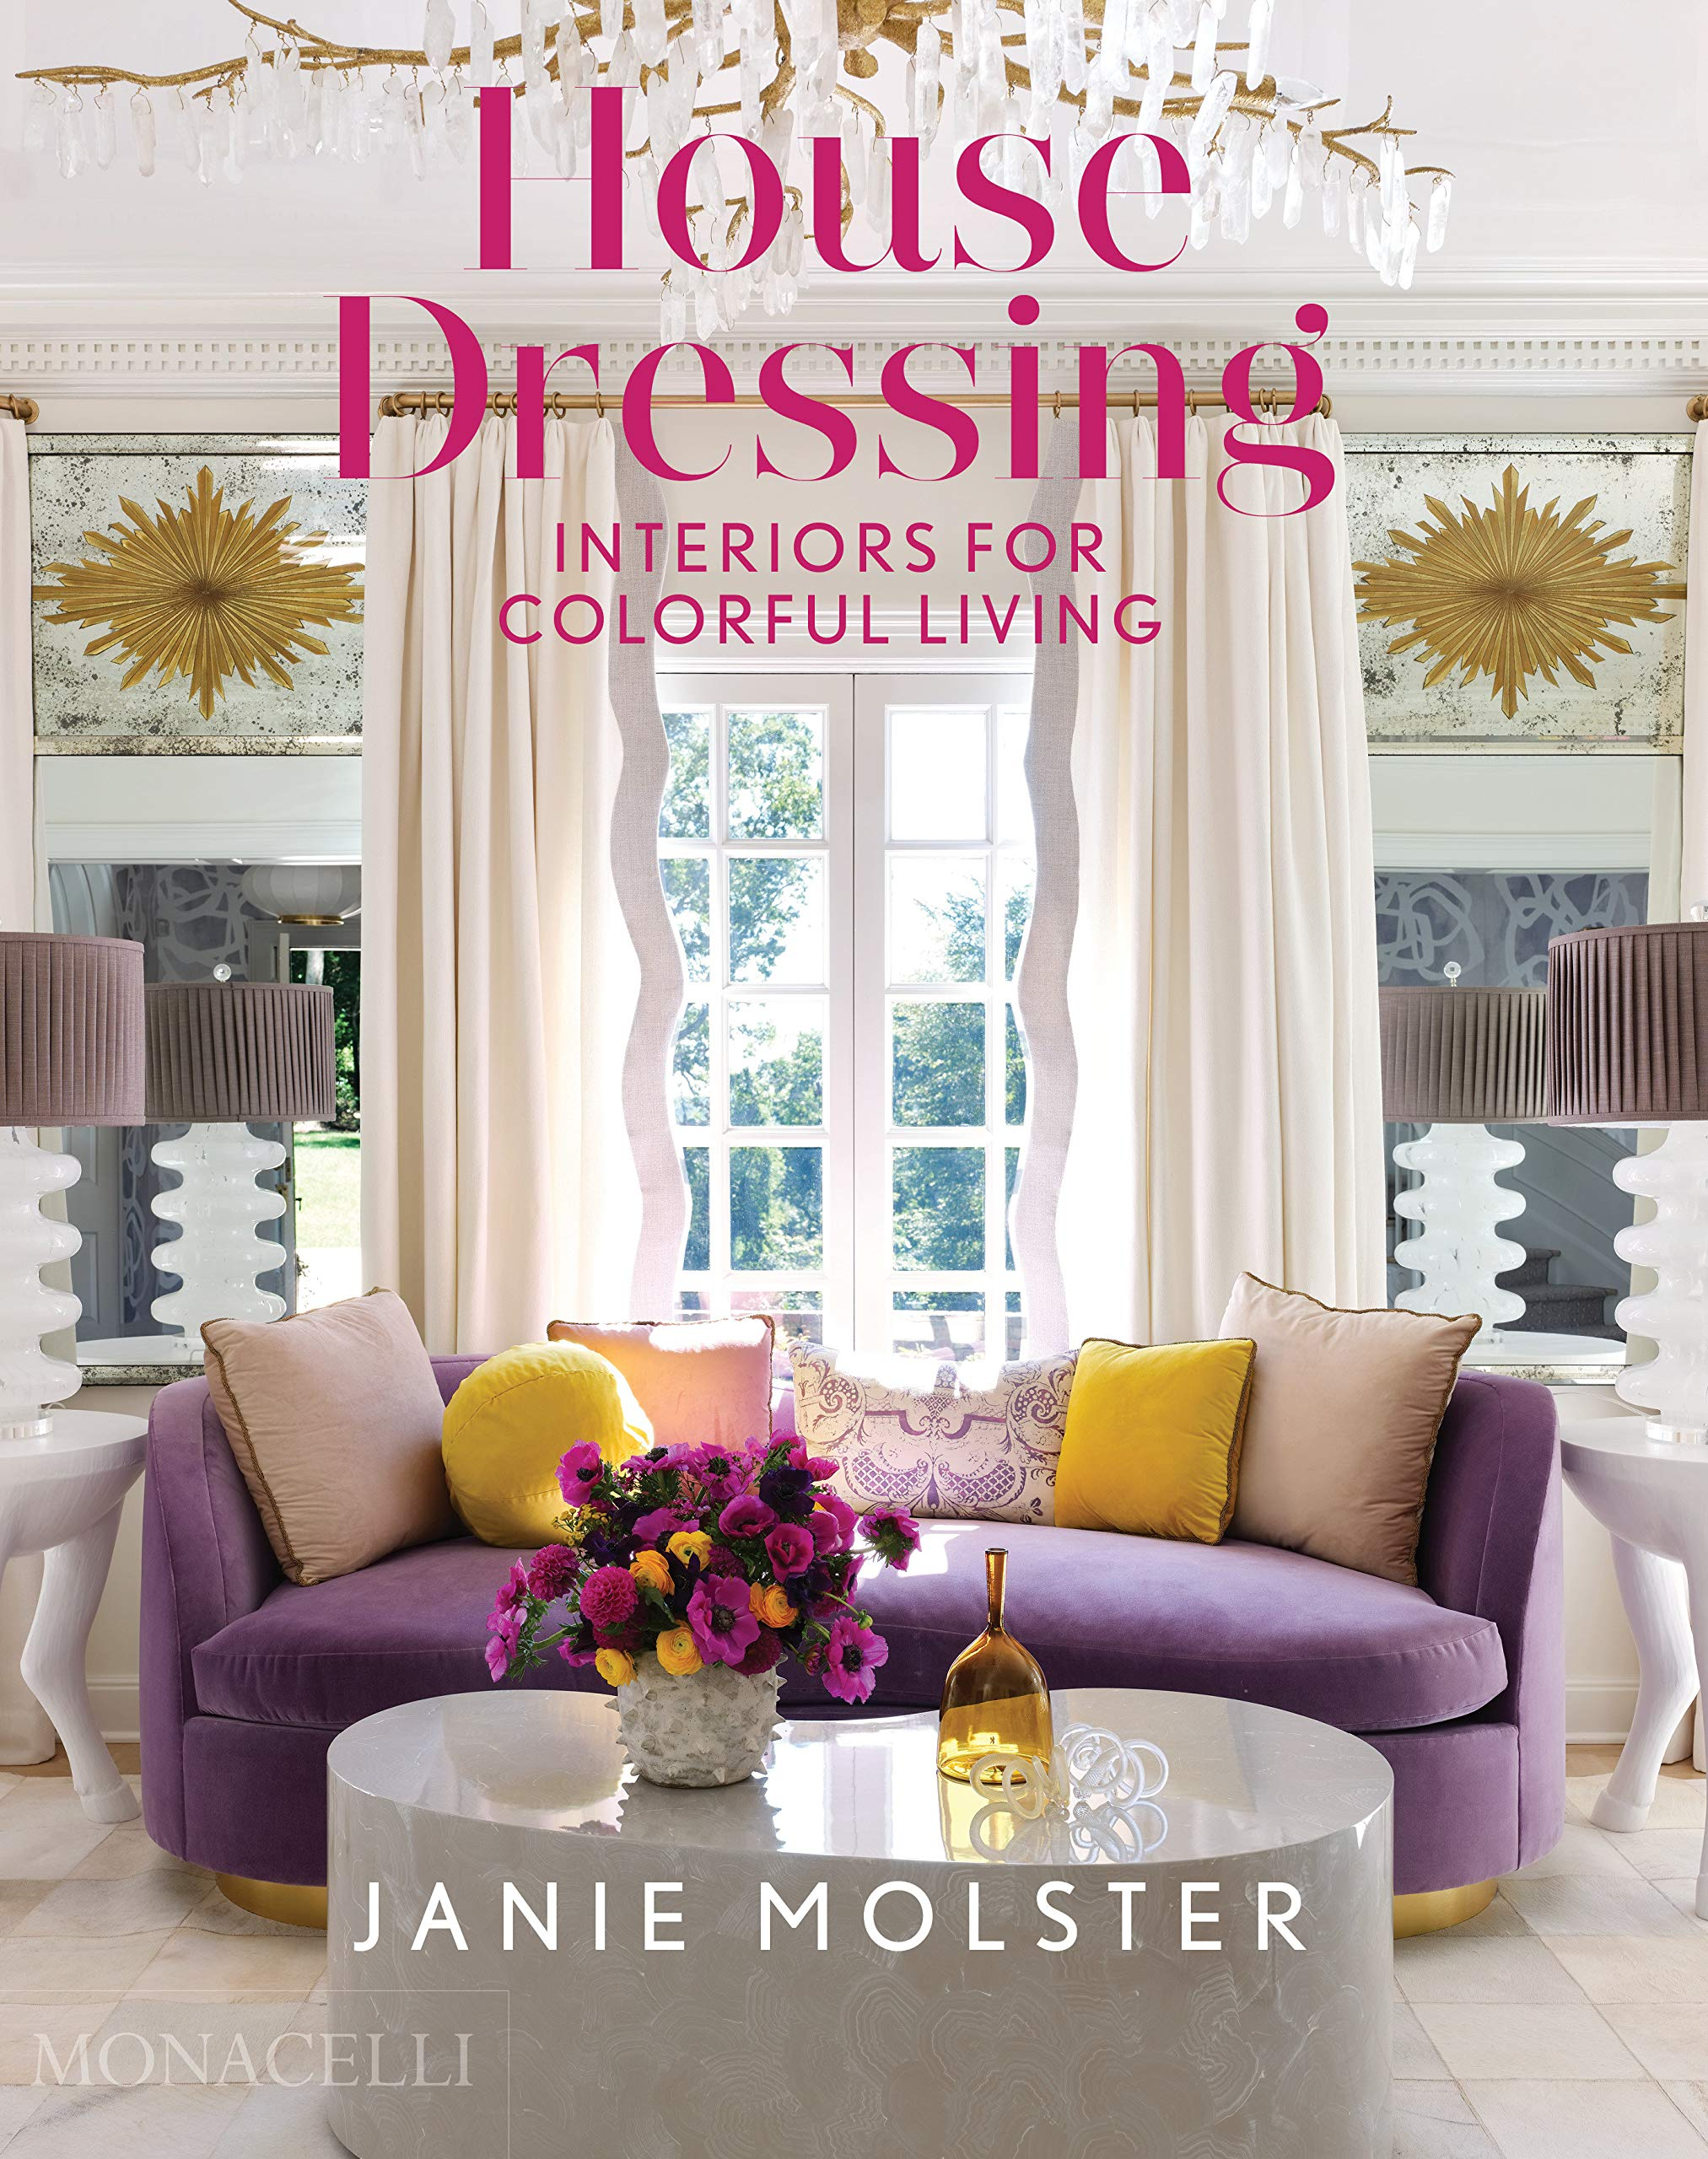kuning: (1062, 1341, 1237, 1542), (441, 1348, 617, 1540)
putih: (1564, 1426, 1708, 1837), (0, 1430, 128, 1816), (1617, 1132, 1708, 1430), (0, 1146, 77, 1433)
ungu: (149, 1363, 1536, 1728)
